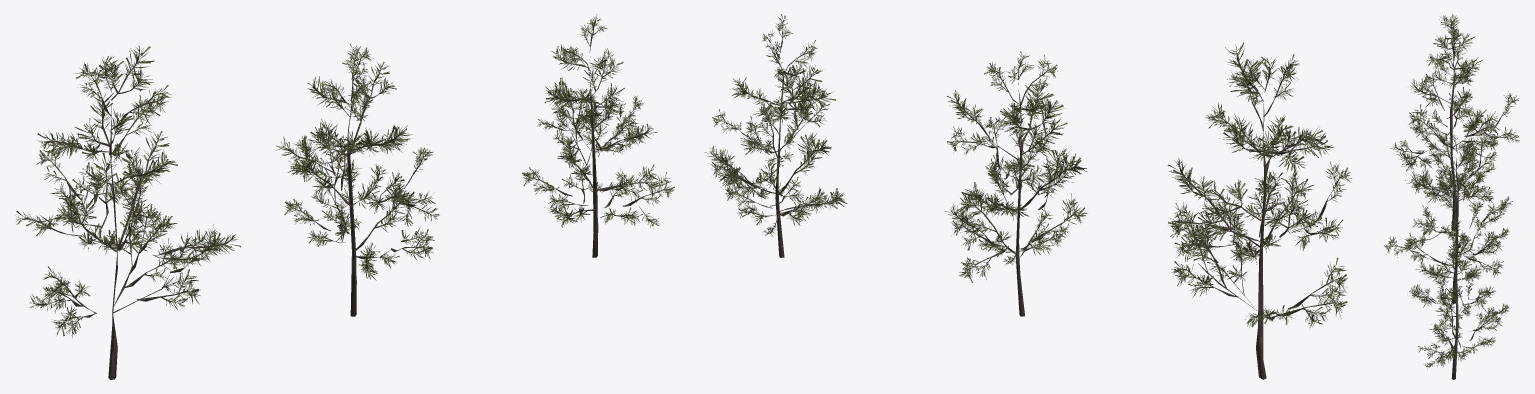
File: pine_sapling_small.glb
The picture shows the model from 3 angles, left to right: view 1: azimuth 30°, elevation 25°; view 2: azimuth 150°, elevation 25°; view 3: azimuth 270°, elevation 25°; orthographic projection. The views are drawn at different scales.
Visible parts, largest first — view 1: pine_sapling_small_a, pine_sapling_small_b, pine_sapling_small_c; view 2: pine_sapling_small_a, pine_sapling_small_b, pine_sapling_small_c; view 3: pine_sapling_small_a, pine_sapling_small_b, pine_sapling_small_c.
Boxes of the visible parts, bbox=[...] form: pine_sapling_small_a: bbox=[15, 45, 240, 379]; pine_sapling_small_b: bbox=[276, 43, 439, 316]; pine_sapling_small_c: bbox=[522, 14, 674, 257]; pine_sapling_small_a: bbox=[1167, 42, 1351, 379]; pine_sapling_small_b: bbox=[945, 51, 1087, 316]; pine_sapling_small_c: bbox=[704, 14, 847, 257]; pine_sapling_small_a: bbox=[1390, 14, 1519, 230]; pine_sapling_small_b: bbox=[1384, 134, 1512, 303]; pine_sapling_small_c: bbox=[1409, 223, 1509, 379].
Bounding box in the file's own units: 2.64 × 1.3 × 0.7699.
2 materials, 2 textured.
